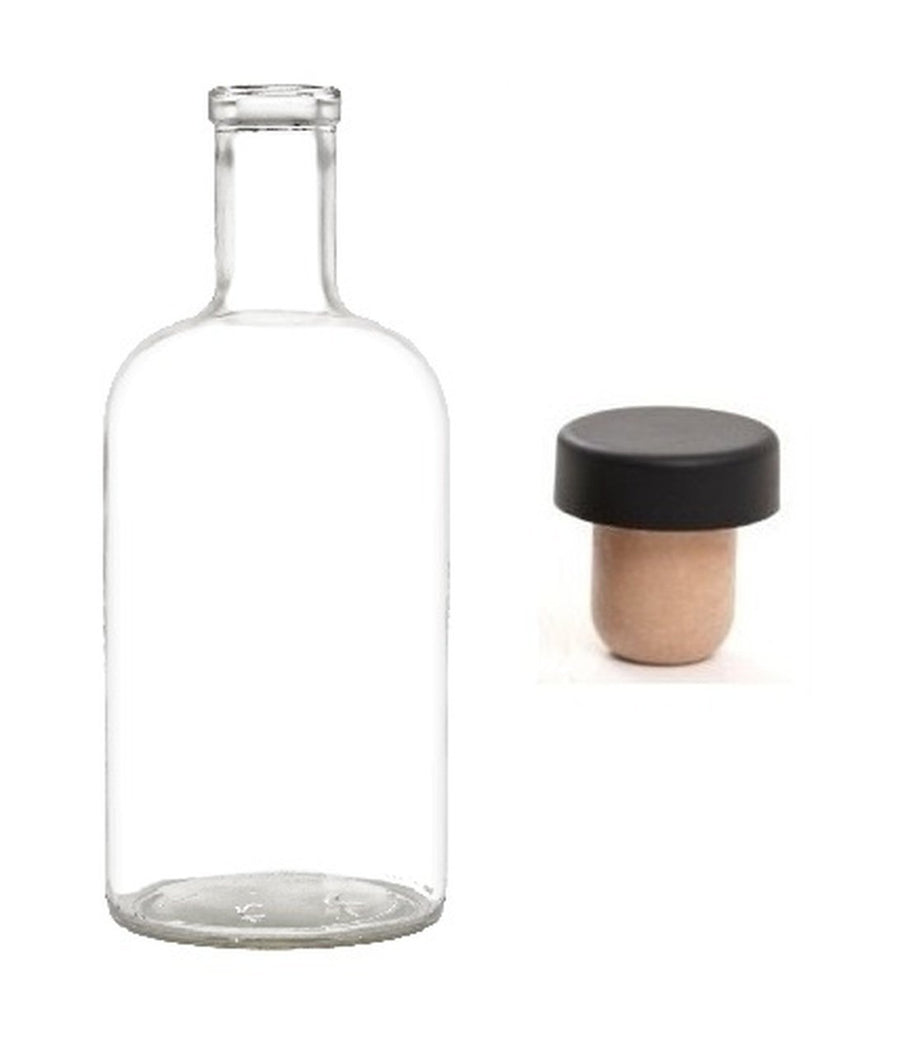glass_bottle: (85, 67, 477, 982)
